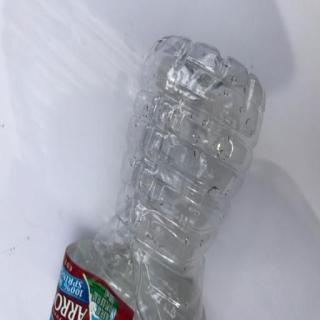Plastic-bottle: (47, 33, 272, 320)
